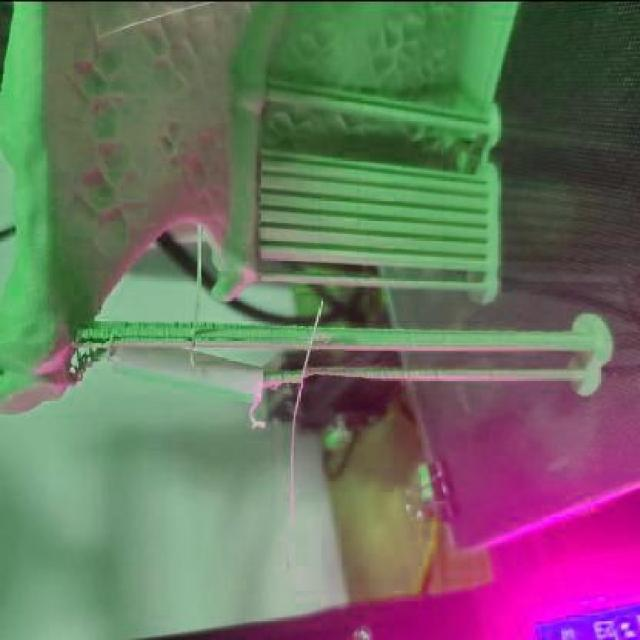spaghetti: (288, 295, 327, 501), (187, 221, 206, 369), (62, 339, 110, 387)
